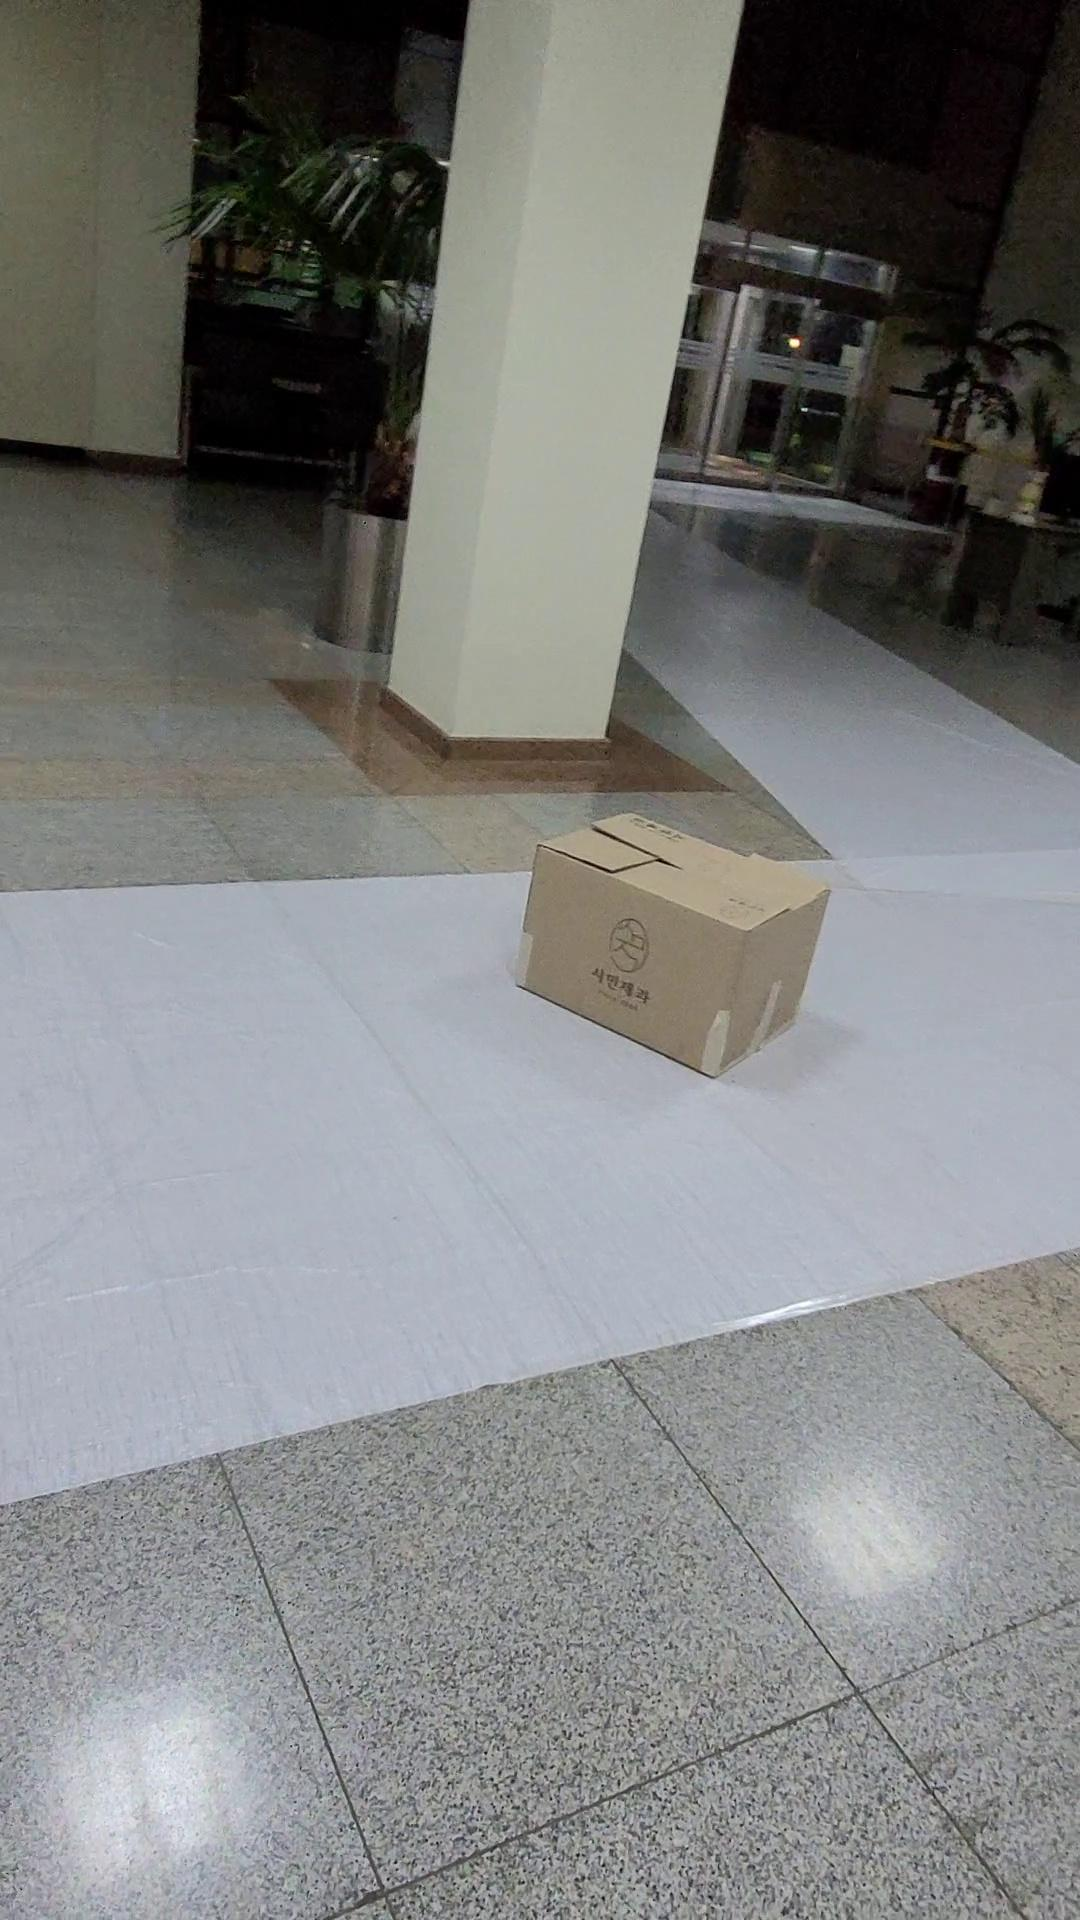Box: (498, 795, 855, 1095)
